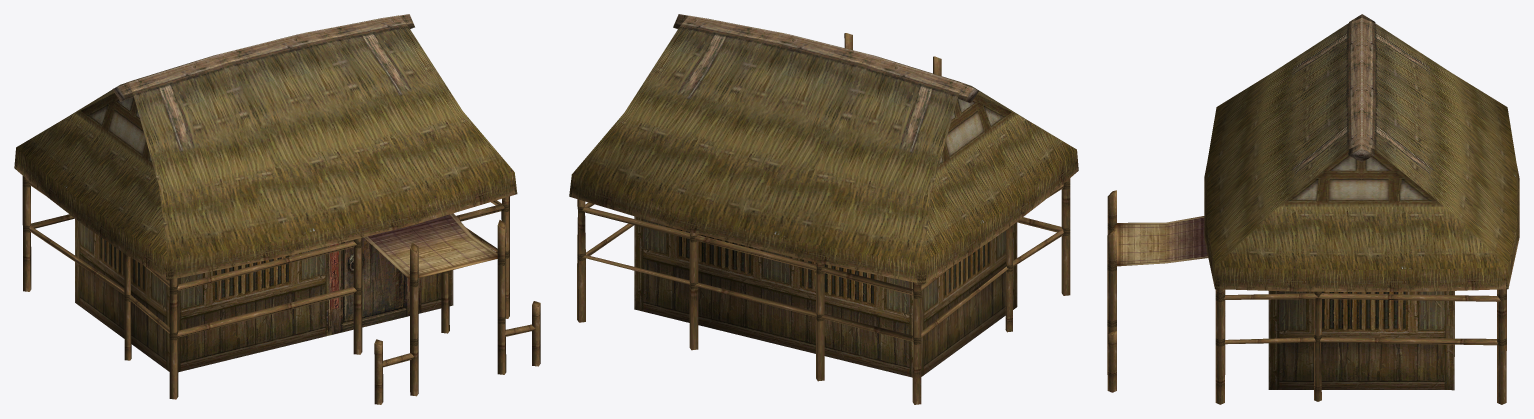
The model's file is C5_straw hut_3.FBX.
The picture shows the model from 3 angles, left to right: view 1: azimuth 30°, elevation 25°; view 2: azimuth 150°, elevation 25°; view 3: azimuth 270°, elevation 25°; orthographic projection. The views are drawn at different scales.
Parts seen in each view (by area): view 1: C5_straw hut_3; view 2: C5_straw hut_3; view 3: C5_straw hut_3.
Boxes of the visible parts, x1=… form: C5_straw hut_3: x1=14, y1=14, x2=540, y2=404; C5_straw hut_3: x1=569, y1=14, x2=1078, y2=404; C5_straw hut_3: x1=1107, y1=14, x2=1519, y2=404.
Size of the model in its own units: 588 by 405 by 604.
